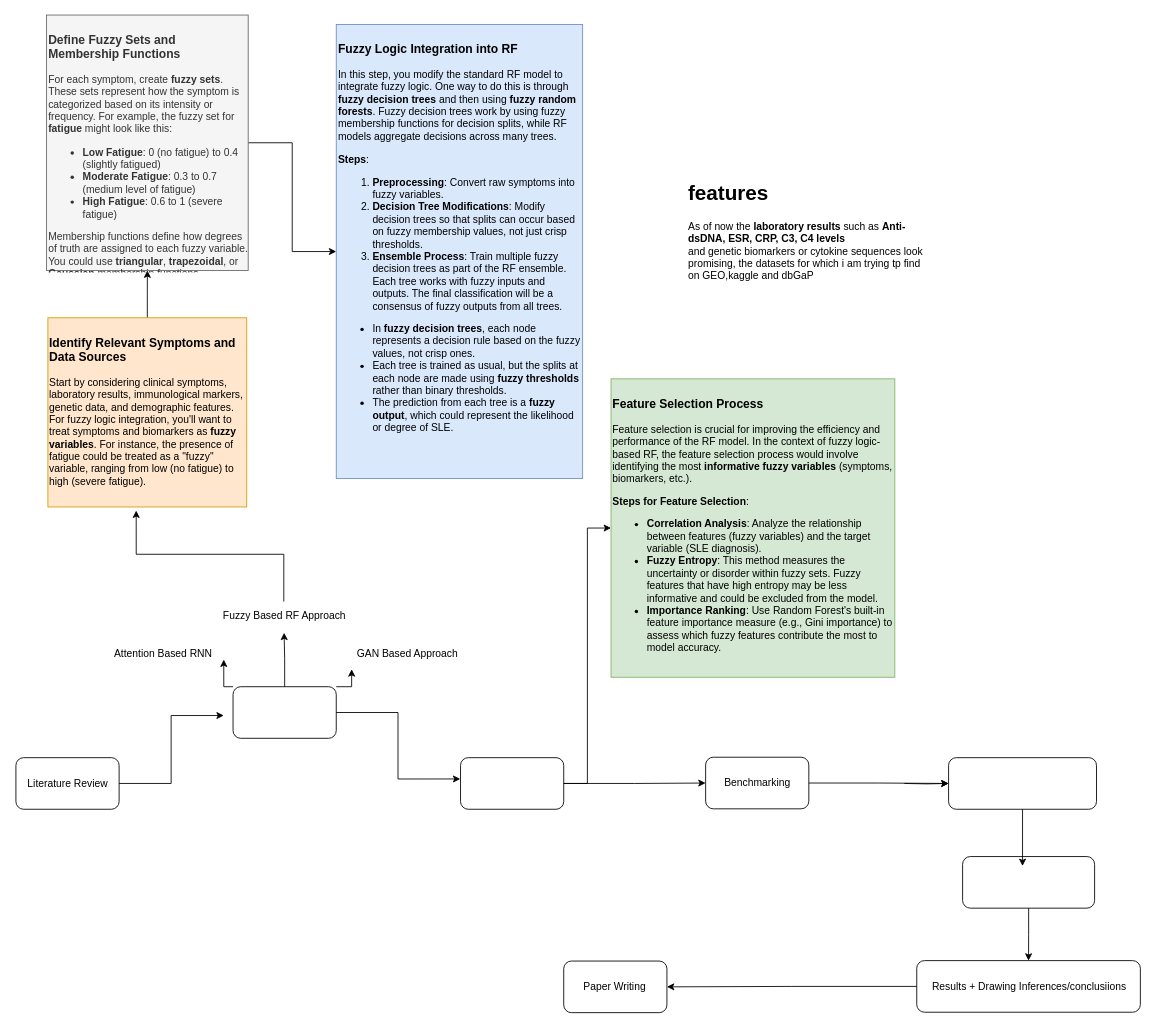
This 1155x1028 diagram has some shape labels left out. The box of each missing label's shape, as (x1, y1, x2, y2) in pixels:
Architecture Selection: (232, 686, 336, 738)
Dataset Selection / Feature Selection: (460, 757, 564, 809)
Initial Code + Experimentation: (948, 757, 1096, 809)
Model Evaluation + Tuning: (962, 856, 1095, 908)
